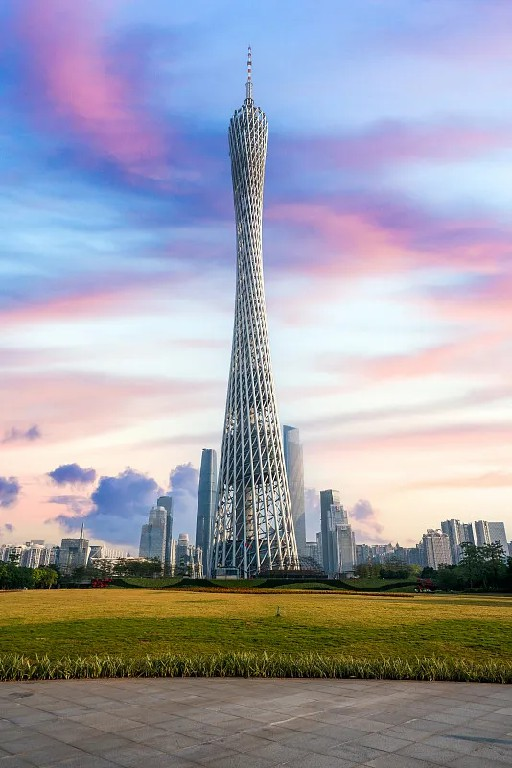Canton: (221, 40, 301, 573)
